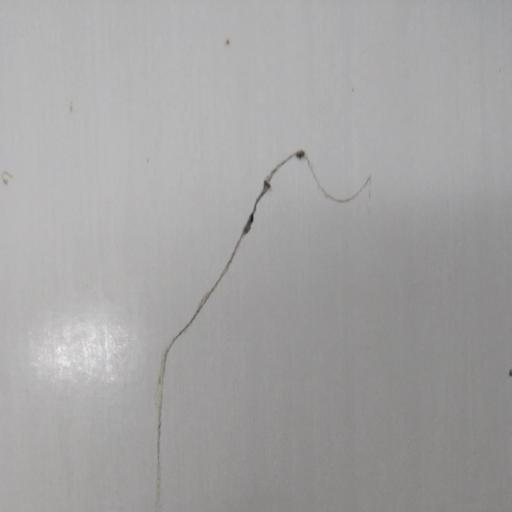minor_crack: (132, 134, 377, 512)
